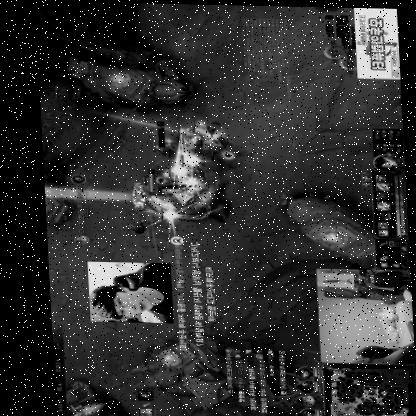donation: (80, 234, 216, 351)
